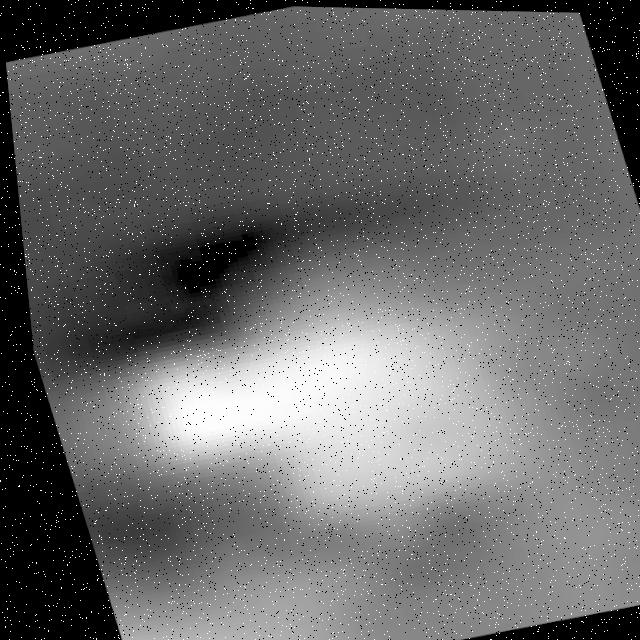person: (40, 187, 640, 584)
